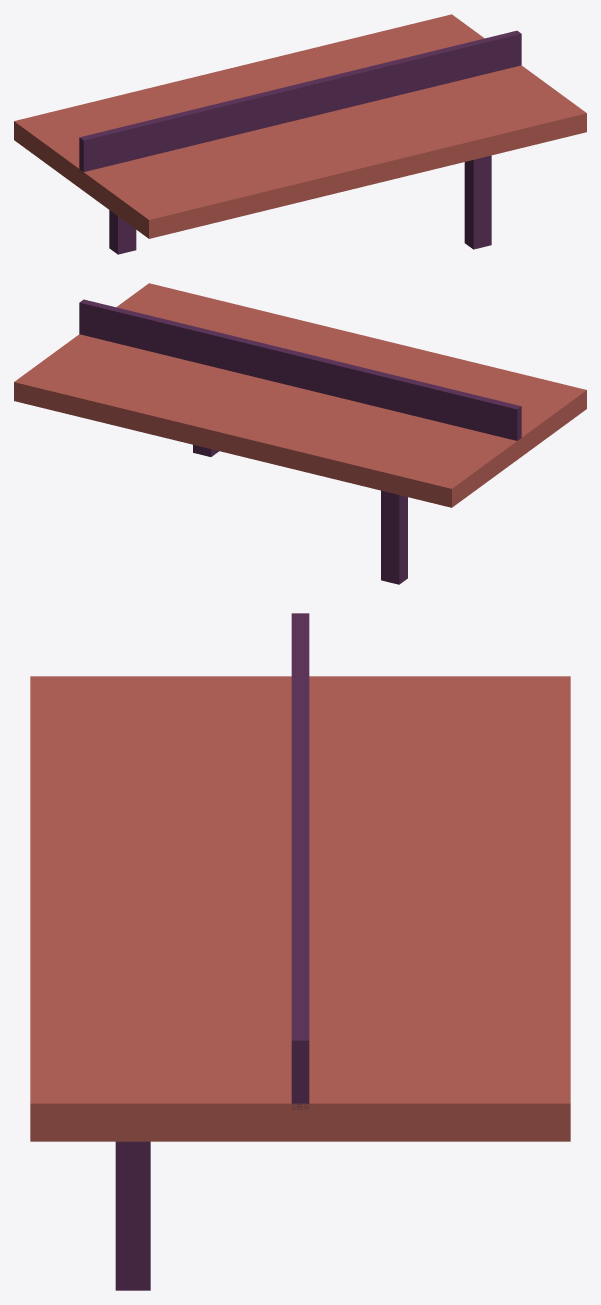
Rendered from table-tennis-paddle.obj.
3 renders of one model, top to bottom at view 1: azimuth 30°, elevation 25°; view 2: azimuth 150°, elevation 25°; view 3: azimuth 270°, elevation 25°, orthographic. The views are drawn at different scales.
Parts seen in each view (by area): view 1: green-table-top, soft-center-net, right-fold-legs, left-fold-legs; view 2: green-table-top, soft-center-net, left-fold-legs; view 3: green-table-top, soft-center-net, right-fold-legs.
Boxes of the visible parts, <box> form: green-table-top: <box>14,14,586,238</box>; soft-center-net: <box>79,30,521,173</box>; right-fold-legs: <box>464,155,491,249</box>; left-fold-legs: <box>109,210,136,254</box>; green-table-top: <box>14,283,586,507</box>; soft-center-net: <box>79,299,521,440</box>; left-fold-legs: <box>381,490,407,584</box>; green-table-top: <box>30,676,570,1141</box>; soft-center-net: <box>291,613,309,1109</box>; right-fold-legs: <box>115,1141,150,1290</box>.
Size of the model in its own units: 2.9 by 1.02 by 1.55.
